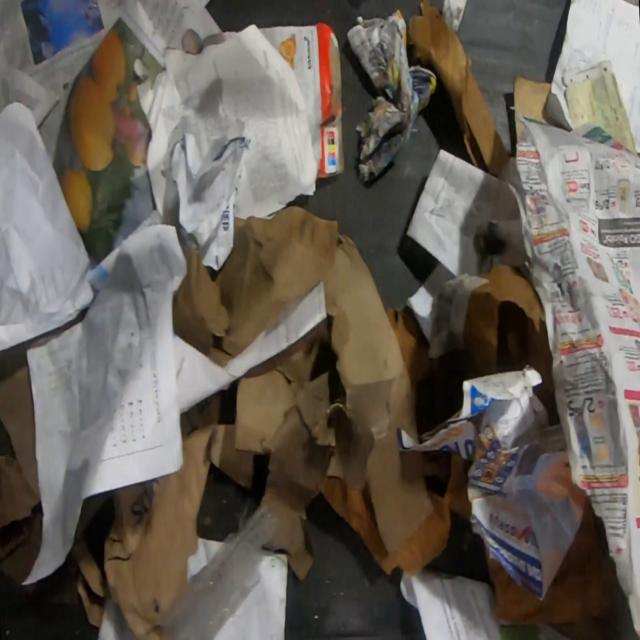cardboard: (323, 231, 434, 554), (385, 261, 560, 433), (174, 203, 339, 368), (259, 318, 344, 582), (318, 447, 472, 579), (406, 0, 514, 177), (256, 19, 346, 179), (233, 359, 301, 457), (513, 75, 552, 144)
soft_plastic: (158, 500, 280, 640)
